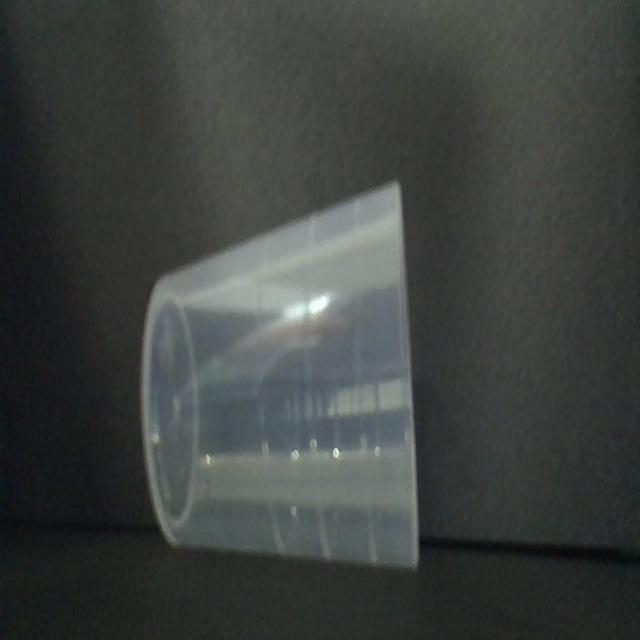cup: (138, 183, 429, 577)
